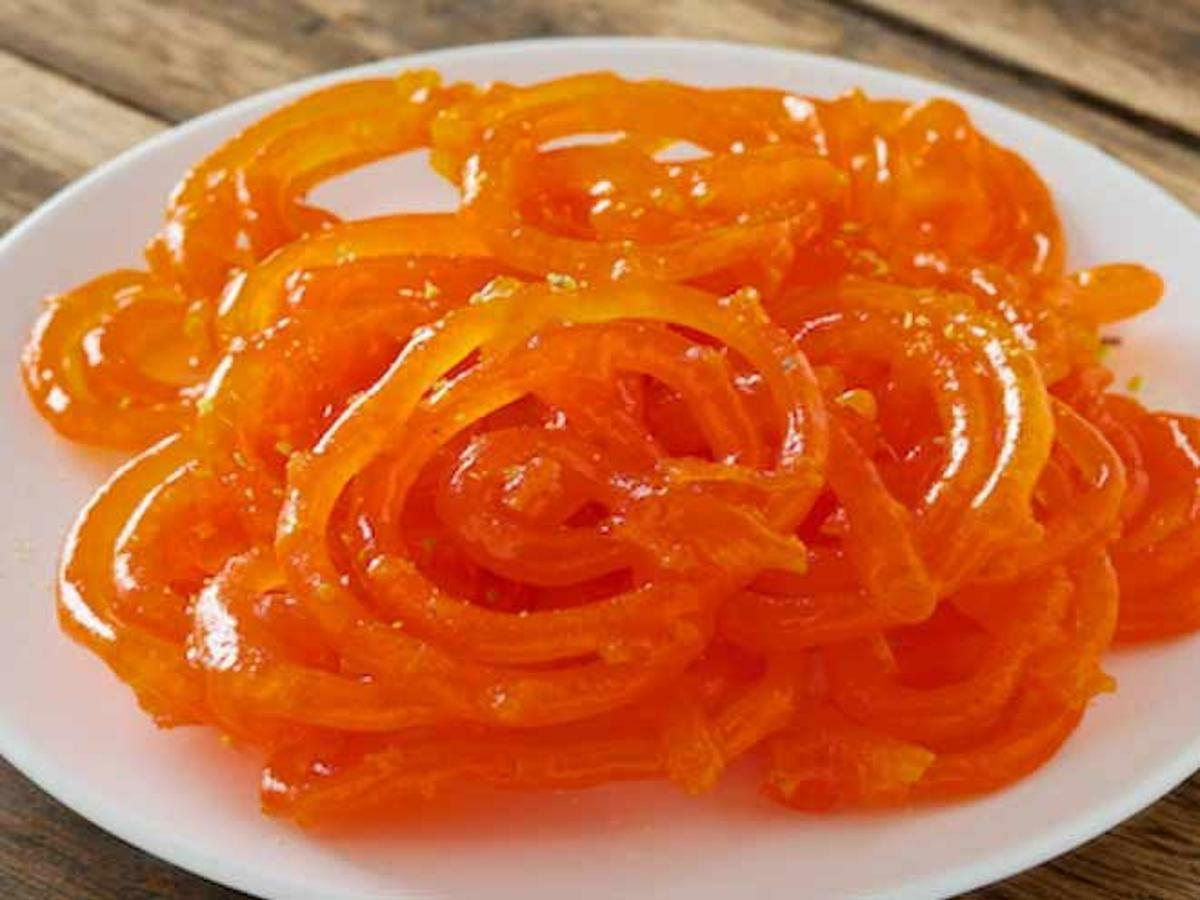Jalebi: (21, 56, 1200, 838)
